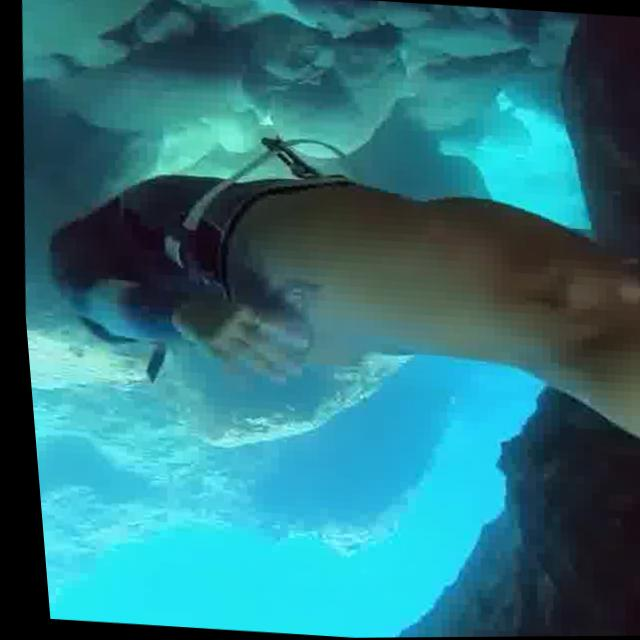human: (9, 131, 640, 523)
